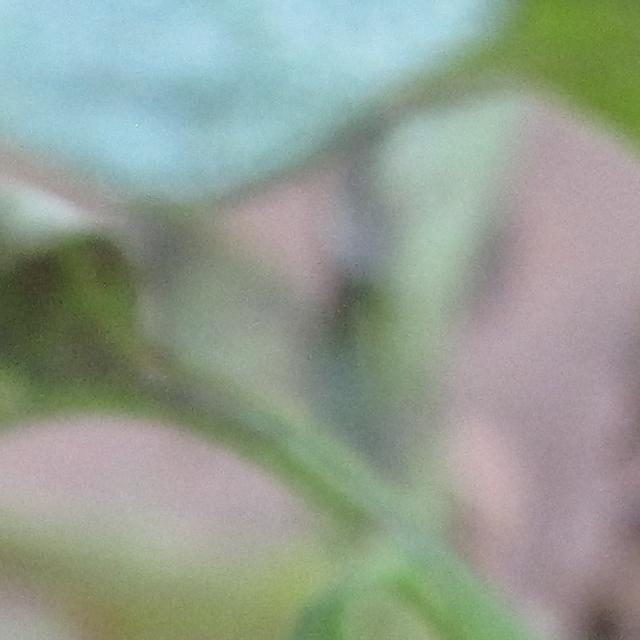Tomato leaf late blight: (0, 157, 99, 640)
